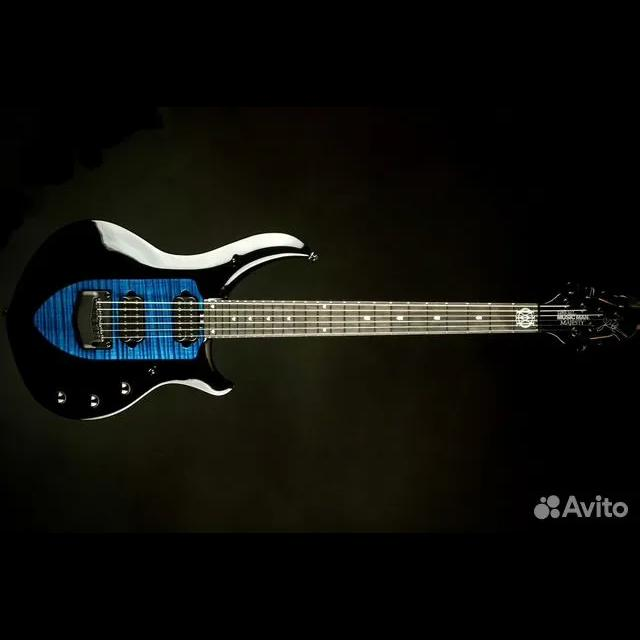Electric-Guitar: (8, 220, 640, 422)
